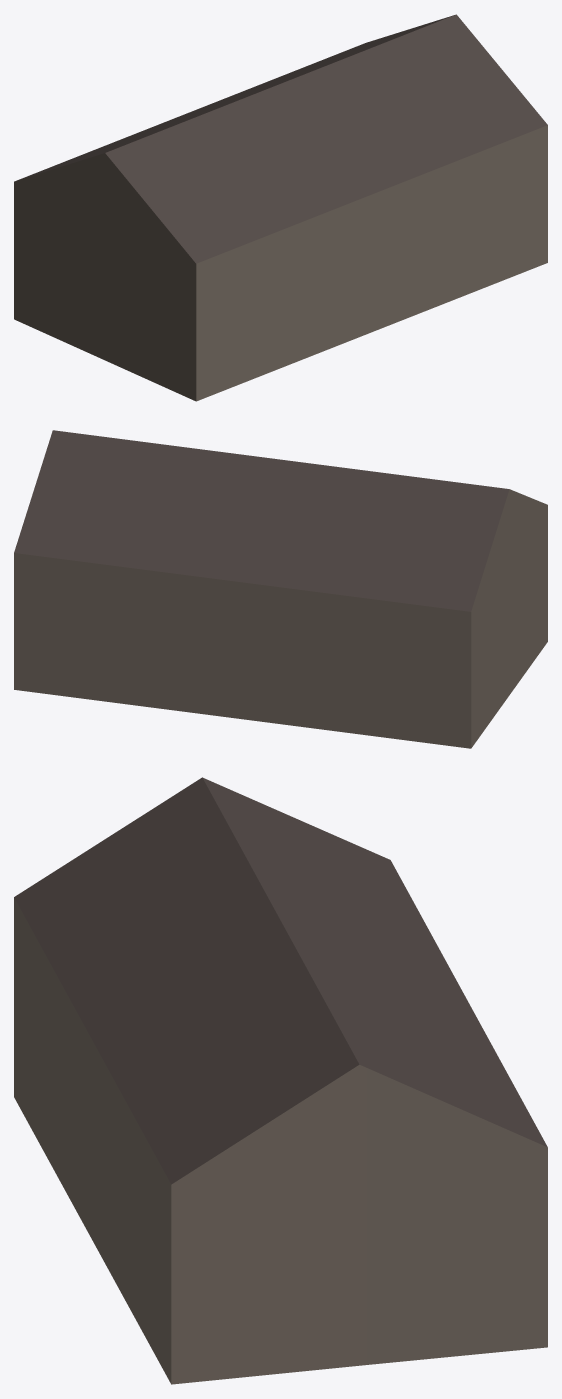
3 renders of one model, top to bottom at view 1: azimuth 30°, elevation 25°; view 2: azimuth 150°, elevation 25°; view 3: azimuth 270°, elevation 25°, orthographic. The views are drawn at different scales.
Parts seen in each view (by area): view 1: HP-w1200750006; view 2: HP-w1200750006; view 3: HP-w1200750006.
Boxes of the visible parts, x1=… form: HP-w1200750006: x1=14, y1=14, x2=547, y2=401; HP-w1200750006: x1=14, y1=430, x2=547, y2=748; HP-w1200750006: x1=14, y1=777, x2=547, y2=1384.
Size of the model in its own units: 20.9 by 9.04 by 14.52.
